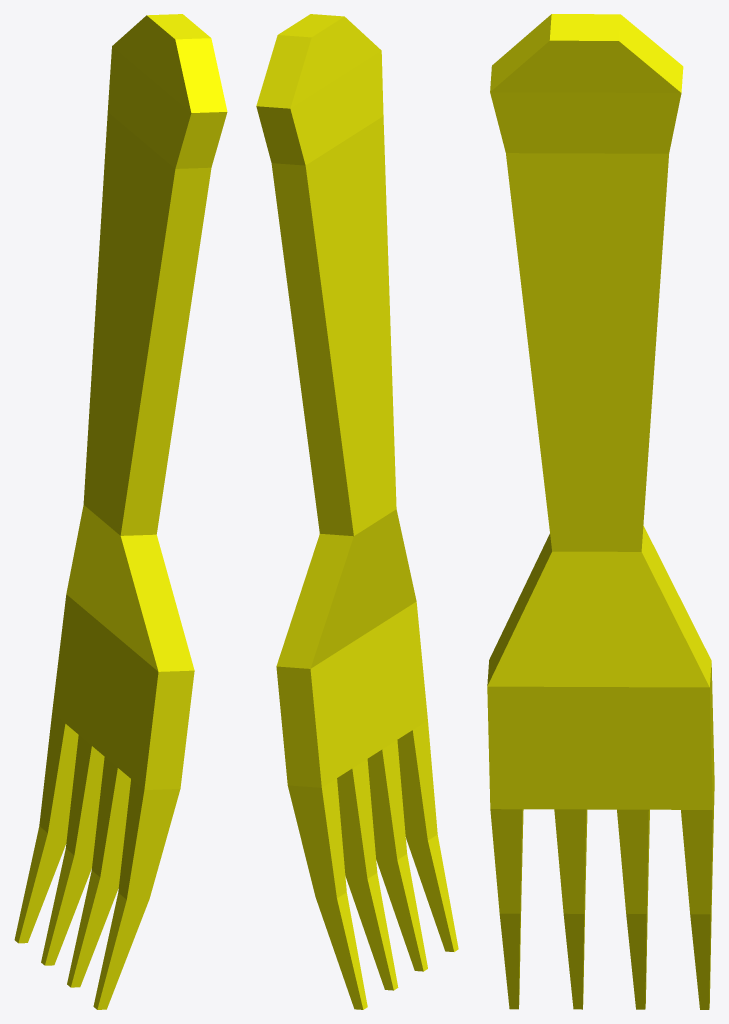
File: Cai dia.gltf
3 renders of one model, left to right at view 1: azimuth 30°, elevation 25°; view 2: azimuth 150°, elevation 25°; view 3: azimuth 270°, elevation 25°, orthographic. The views are drawn at different scales.
Visible parts, largest first — view 1: 0_Cai dia; view 2: 0_Cai dia; view 3: 0_Cai dia.
Boxes of the visible parts, <box> form: 0_Cai dia: <box>14,14,227,1009</box>; 0_Cai dia: <box>256,14,458,1009</box>; 0_Cai dia: <box>487,14,714,1009</box>.
Bounding box in the file's own units: 0.173 × 1.15 × 0.2276.
1 material, 1 textured.
